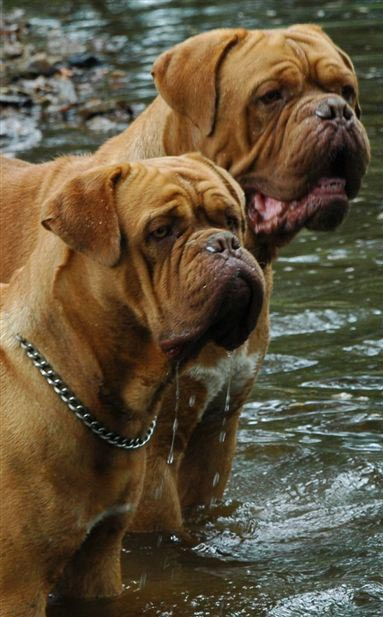dogue_de_bordeaux: (0, 22, 371, 533), (0, 154, 267, 617)
